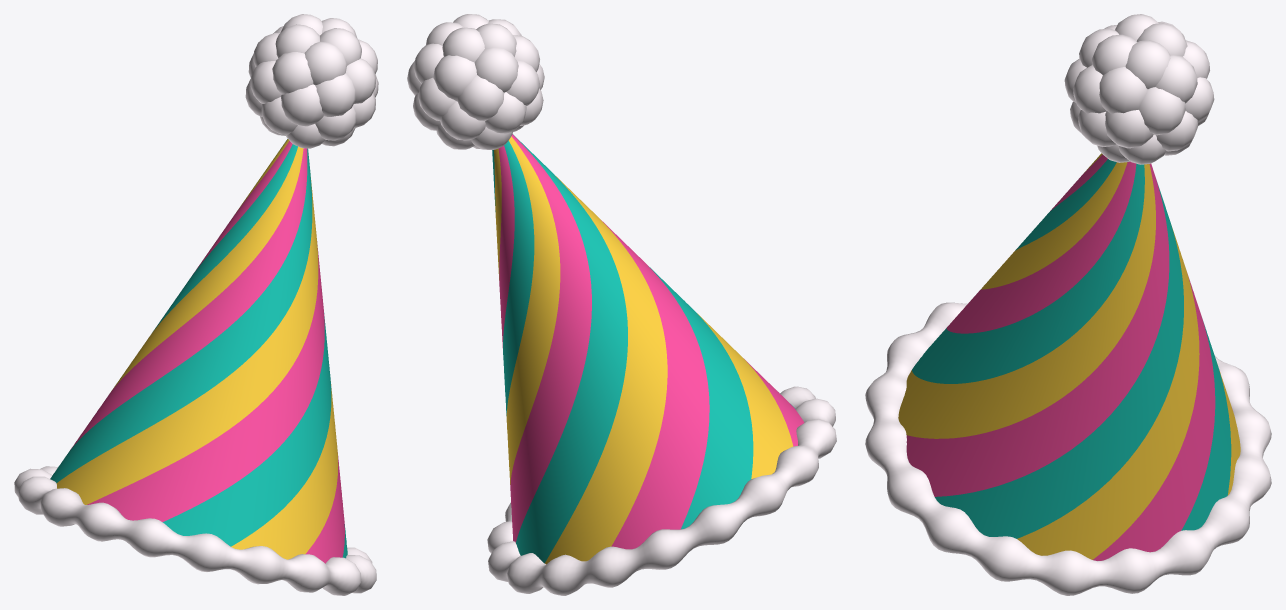
Rendered from party-hat.glb.
The picture shows the model from 3 angles, left to right: view 1: azimuth 30°, elevation 25°; view 2: azimuth 150°, elevation 25°; view 3: azimuth 270°, elevation 25°; orthographic projection. The views are drawn at different scales.
Visible parts, largest first — view 1: PartyHatCone, PartyHatPompom, PartyHatRuffle; view 2: PartyHatCone, PartyHatRuffle, PartyHatPompom; view 3: PartyHatCone, PartyHatRuffle, PartyHatPompom.
Part boxes in pixels (x1,y1,x2,y2): PartyHatCone: (50, 139, 347, 563); PartyHatPompom: (245, 14, 378, 148); PartyHatRuffle: (14, 466, 376, 595); PartyHatCone: (492, 134, 804, 564); PartyHatRuffle: (487, 386, 836, 595); PartyHatPompom: (407, 14, 544, 149); PartyHatCone: (898, 153, 1240, 560); PartyHatRuffle: (865, 302, 1271, 595); PartyHatPompom: (1064, 14, 1214, 164).
Bounding box in the file's own units: 0.5634 × 0.7863 × 0.4984.
